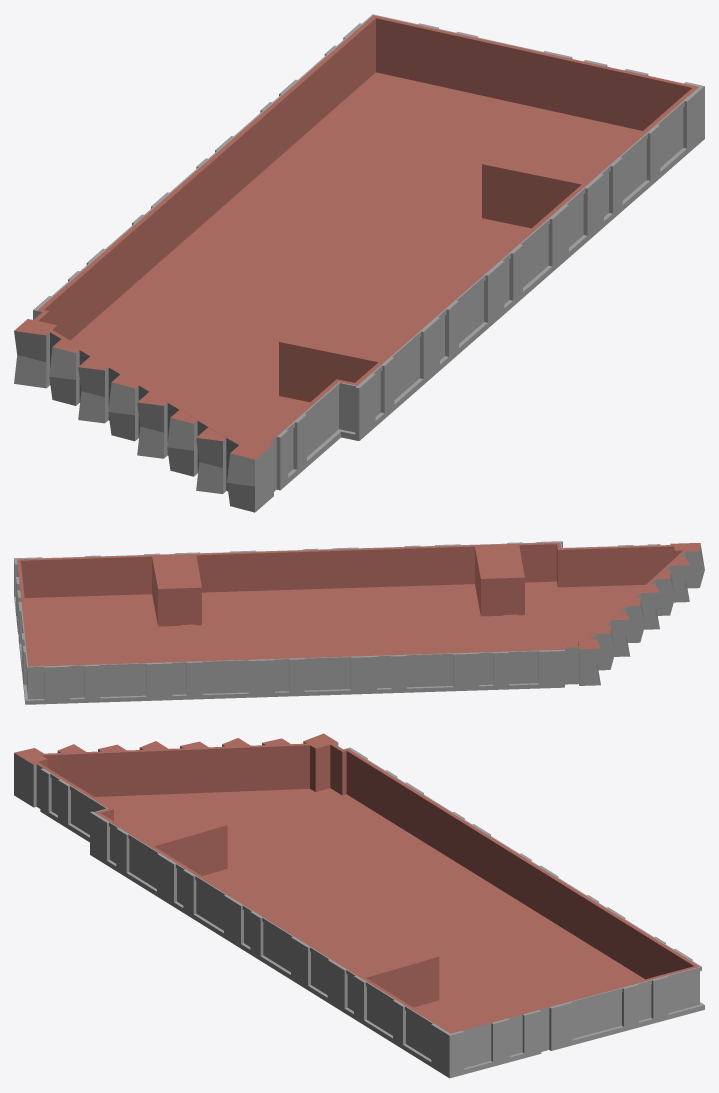
The model's file is JLL_Ruya_Region3DModels_Riyadh_Derived_HeroBuildings_Building 305_Floors_KSA_04_04105_B29_Floor_T2_12.fbx.
3 renders of one model, top to bottom at view 1: azimuth 30°, elevation 25°; view 2: azimuth 150°, elevation 25°; view 3: azimuth 270°, elevation 25°, orthographic. The views are drawn at different scales.
Visible parts, largest first — view 1: KSA_04_04105_B29_Floor_T2_12; view 2: KSA_04_04105_B29_Floor_T2_12; view 3: KSA_04_04105_B29_Floor_T2_12.
Part boxes in pixels (x1=…): KSA_04_04105_B29_Floor_T2_12: x1=14, y1=14, x2=704, y2=512; KSA_04_04105_B29_Floor_T2_12: x1=14, y1=541, x2=704, y2=704; KSA_04_04105_B29_Floor_T2_12: x1=14, y1=733, x2=704, y2=1078.
Size of what is drawn, in the model's own units: 5169 by 348 by 4993.
